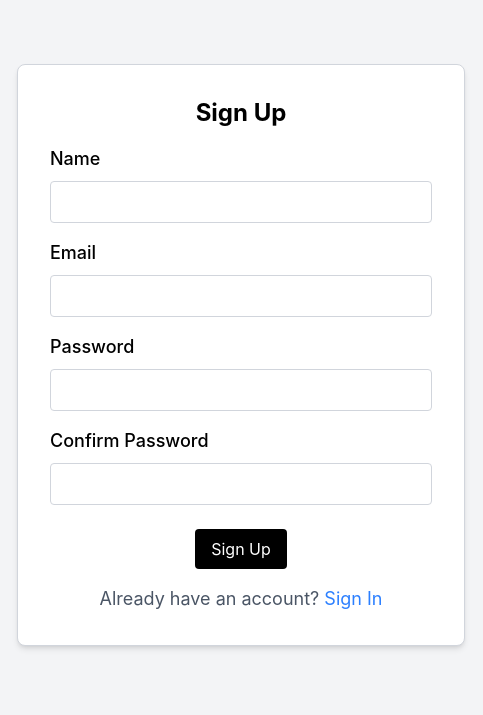
Test: Sign Up Page › ShouldShowErrorWhenNameIsLessThen3Characters
Type "pr" into the field labelled "Name".
click(241, 202); type("pr")  # box [50,181,432,223]
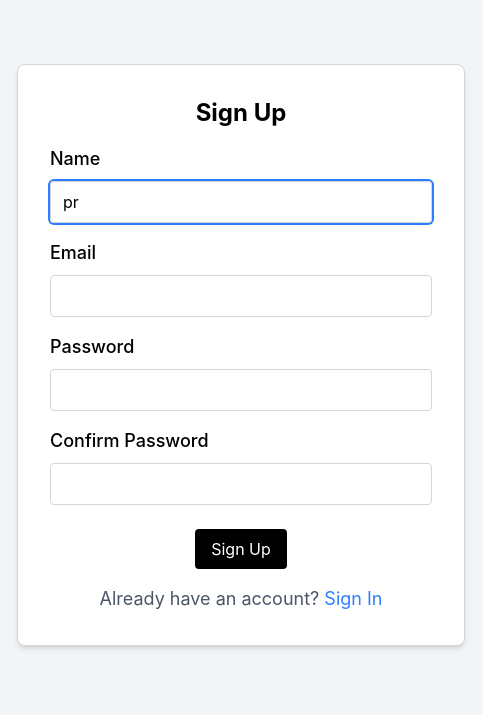
Click the button "Sign Up".
click(241, 549)  # box [195,529,287,569]
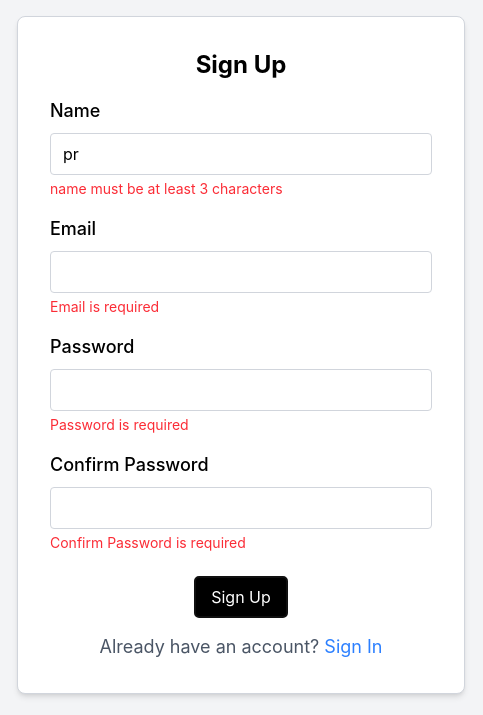
Expected: the text "name must be at least 3 characters" is shown, [50,180,283,197]
